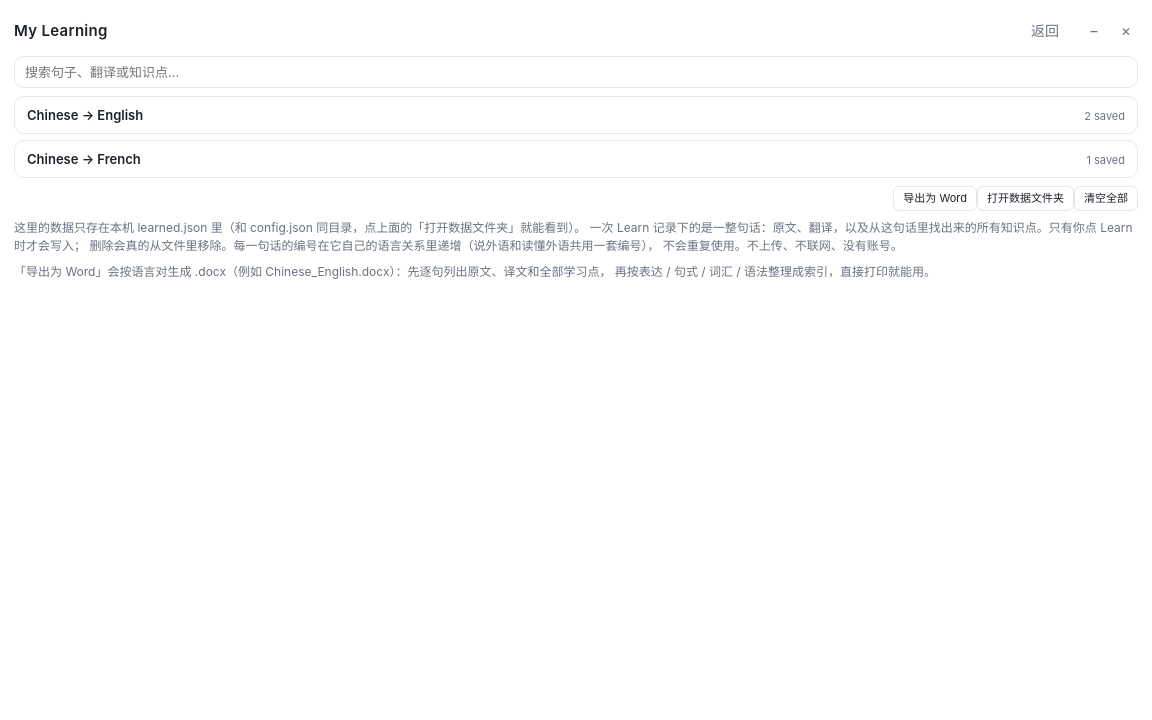
MyLanguagePage: one pair › deletes one sentence for good, naming both halves of its id
The image size is (1152, 720).
Check: the text "Chinese → English" is shown, box [27, 107, 143, 123]
Step 1. Click the button "Chinese → English 2 saved" → (85, 115), box [14, 96, 1138, 134]
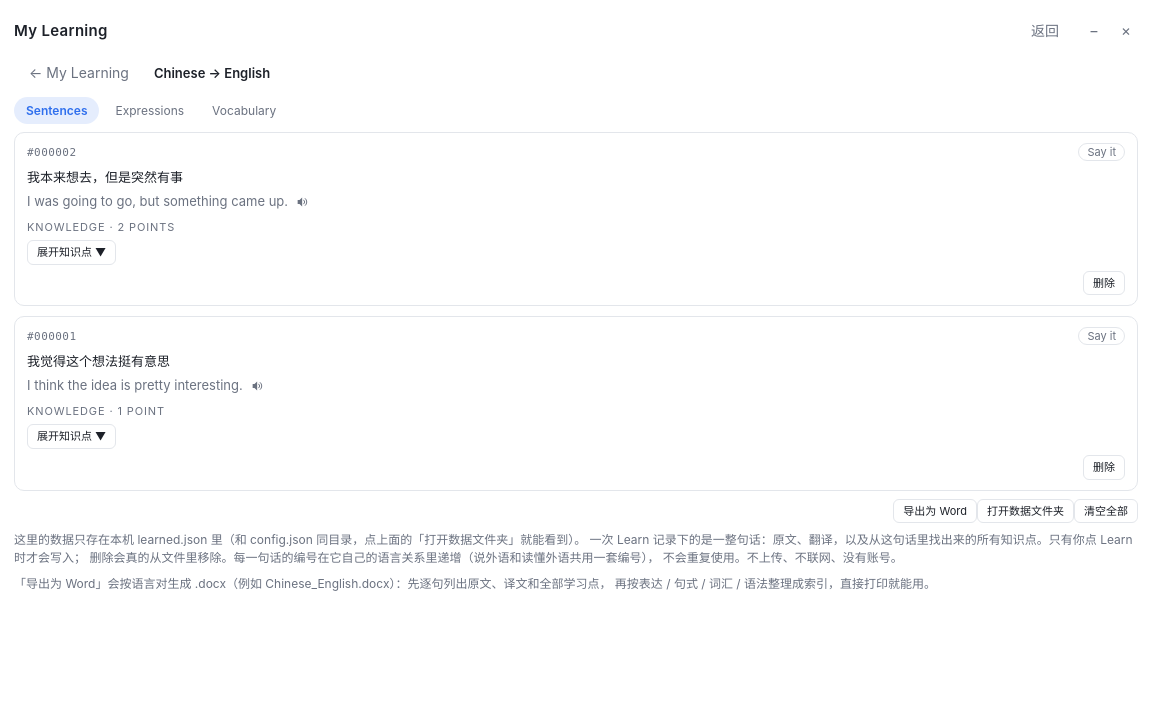
Step 2. Click the button with aria-label "删除句子 #000002" → (1104, 283), box [1083, 271, 1125, 295]
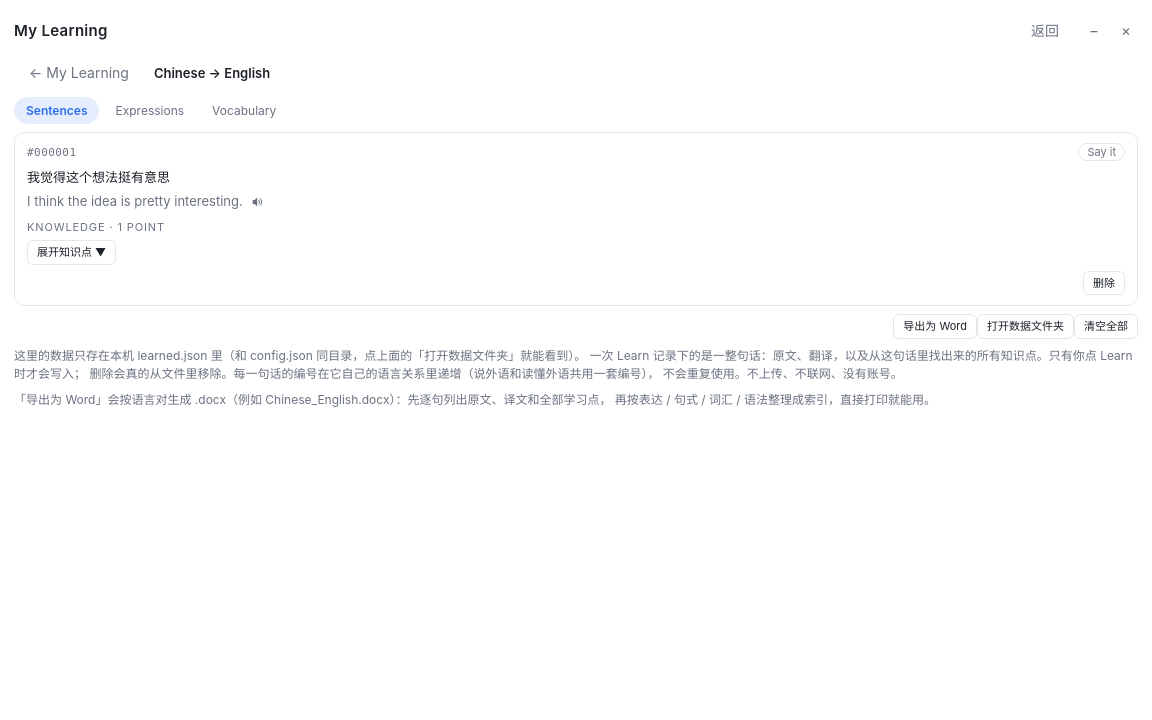
Check: the number of list items with class "language__record" is 1, box [14, 132, 1138, 306]
Check: the text "#000002" is gone
